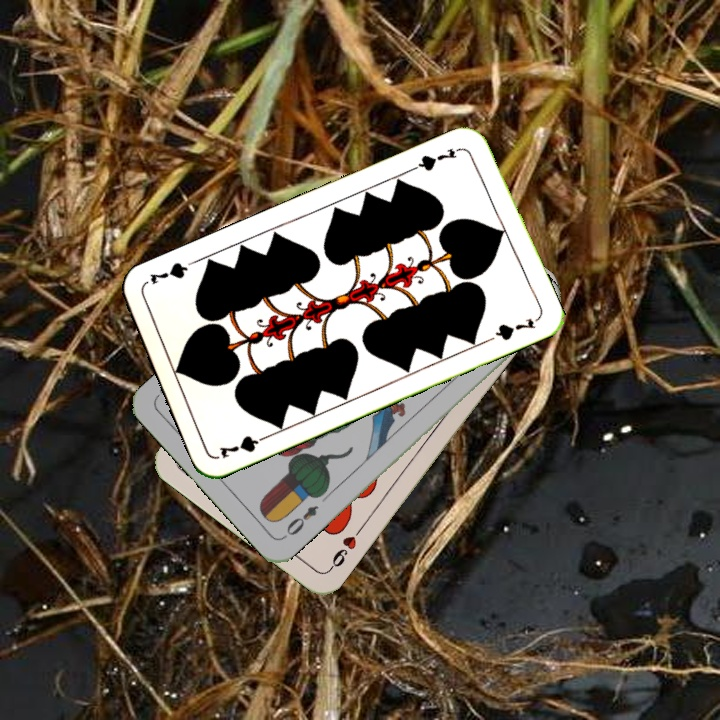EO: (279, 501, 321, 542)
G7: (215, 430, 273, 461), (409, 143, 465, 174)
H9: (324, 523, 366, 574)
